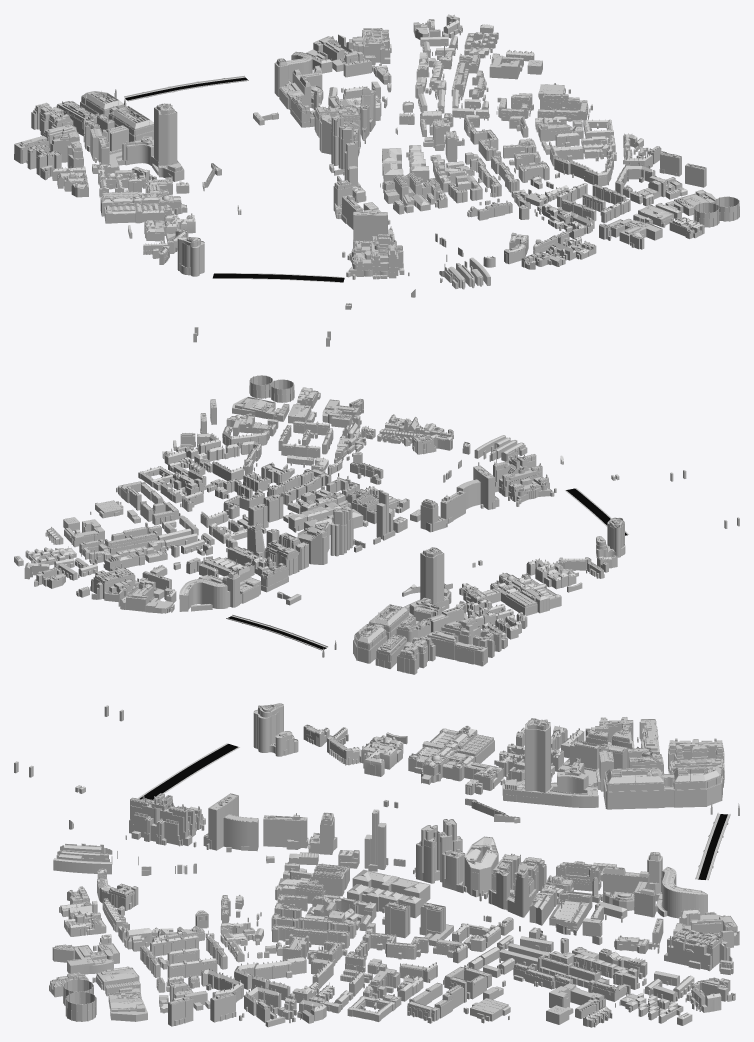
Rendered from TQ3078_Buildings_LOD_1_draco.glb.
The picture shows the model from 3 angles, top to bottom: view 1: azimuth 30°, elevation 25°; view 2: azimuth 150°, elevation 25°; view 3: azimuth 270°, elevation 25°; orthographic projection. The views are drawn at different scales.
Parts seen in each view (by area): view 1: TQ3078_Buildings; view 2: TQ3078_Buildings; view 3: TQ3078_Buildings.
Boxes of the visible parts, x1=… form: TQ3078_Buildings: x1=14, y1=14, x2=739, y2=346; TQ3078_Buildings: x1=14, y1=375, x2=739, y2=674; TQ3078_Buildings: x1=14, y1=703, x2=739, y2=1027.
Size of the model in its own units: 1123 by 139 by 1081.
Materials: 1 (1 with a texture image).
